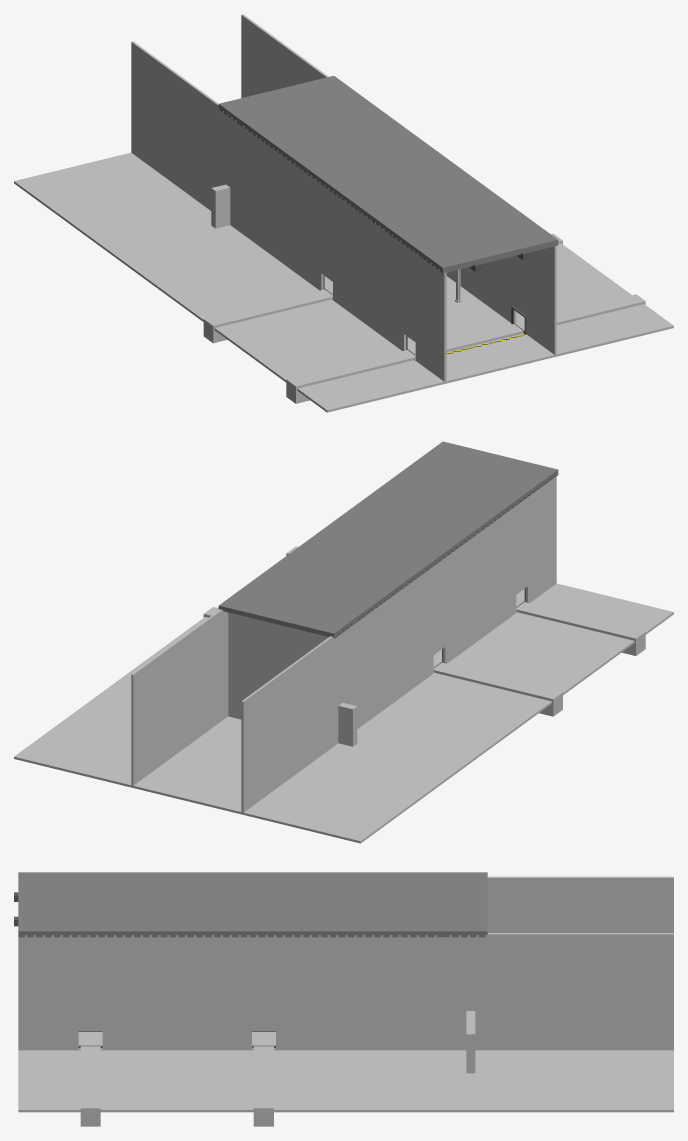
File: factory 1.fbx
3 views of the same model, one above another, from view 1: azimuth 30°, elevation 25°; view 2: azimuth 150°, elevation 25°; view 3: azimuth 270°, elevation 25° (orthographic). The views are drawn at different scales.
Visible parts, largest first — view 1: factory, factory_ceiling, Cube.003; view 2: factory, factory_ceiling, Cube.001, Cube.003, Cube.002; view 3: factory, factory_ceiling, Cube.002.
Part boxes in pixels (x1,y1,x2,y2): factory: (14, 14, 673, 412); factory_ceiling: (218, 75, 558, 273); Cube.003: (211, 184, 230, 228); factory: (14, 476, 673, 843); factory_ceiling: (218, 441, 558, 638); Cube.001: (228, 612, 342, 698); Cube.003: (338, 703, 357, 746); Cube.002: (228, 679, 260, 719); factory: (18, 876, 673, 1126); factory_ceiling: (14, 872, 487, 937); Cube.002: (466, 1011, 475, 1073).
Size of the model in its own units: 12943 by 4569 by 20208.
